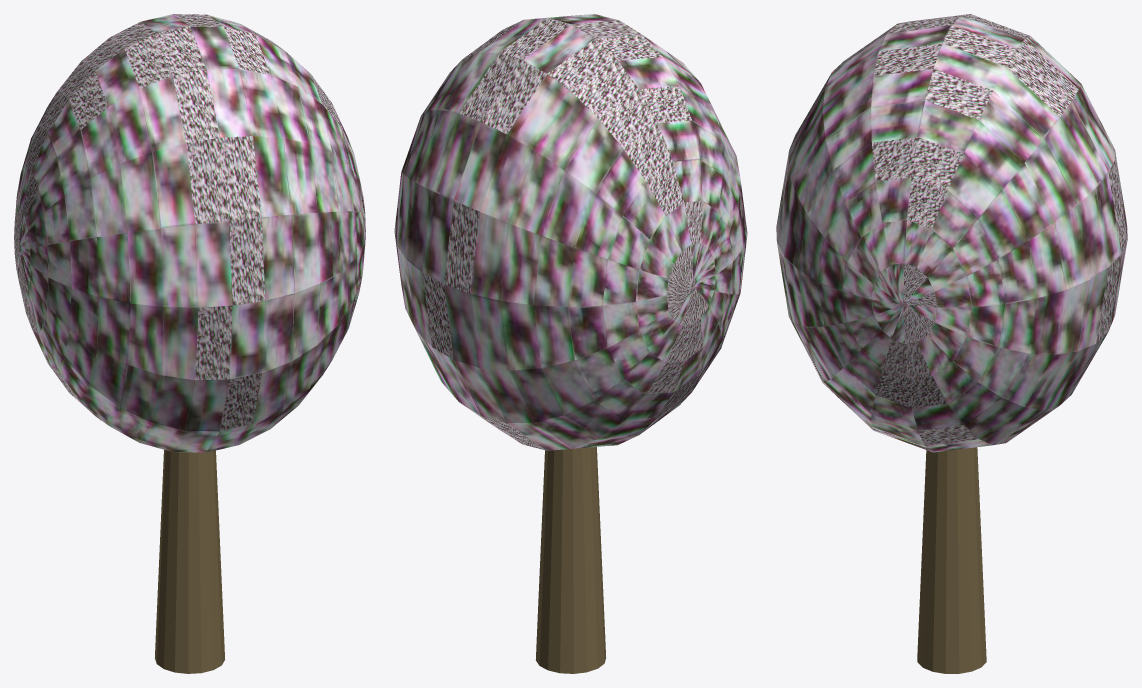
Rendered from GMLID_SO0286258_965_2893.dae.
3 renders of one model, left to right at view 1: azimuth 30°, elevation 25°; view 2: azimuth 150°, elevation 25°; view 3: azimuth 270°, elevation 25°, orthographic.
Bounding box in the file's own units: 6.75 × 6.75 × 13.43.
Materials: 2 (1 with a texture image).
